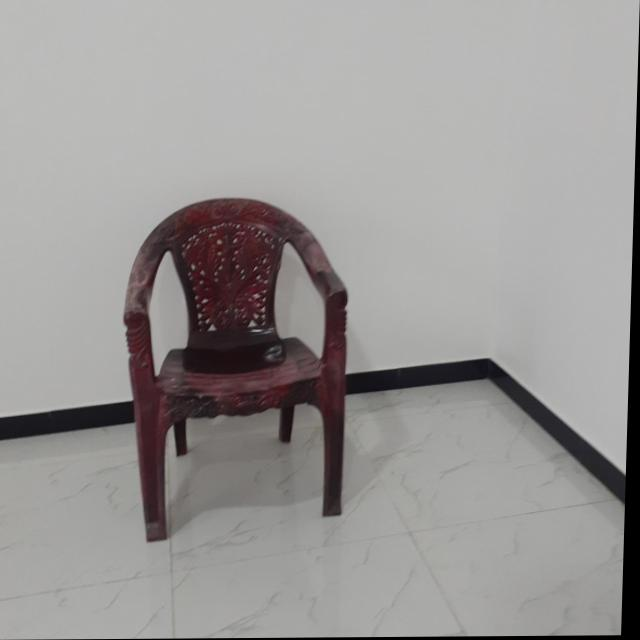Chair: (121, 197, 356, 542)
